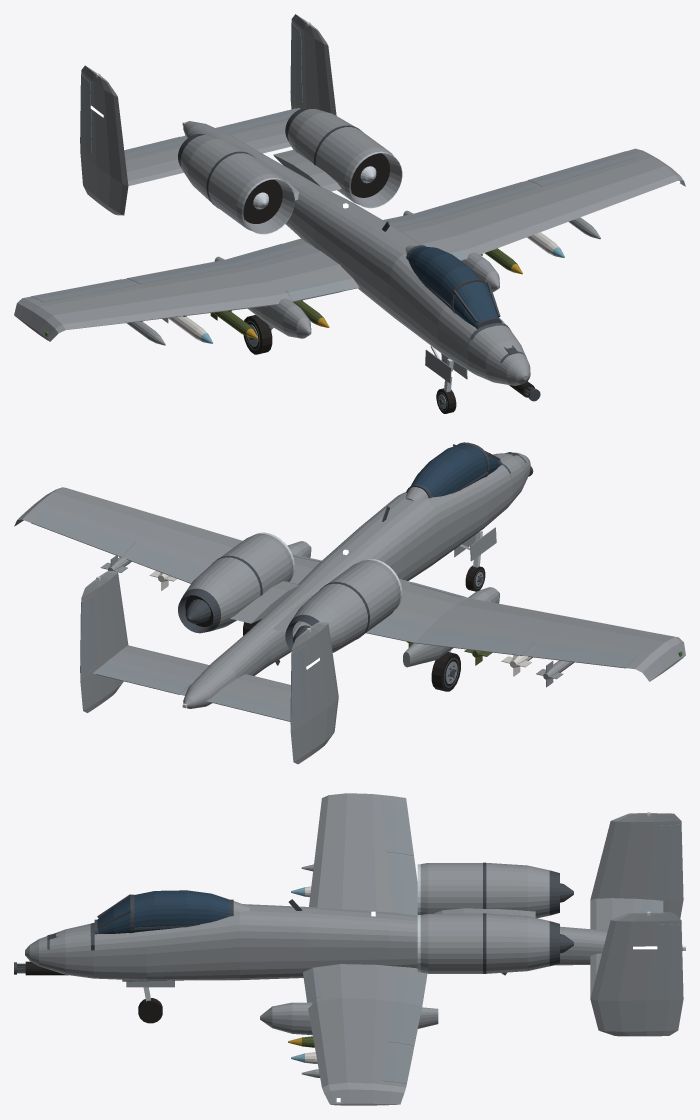
3 views of the same model, one above another, from view 1: azimuth 30°, elevation 25°; view 2: azimuth 150°, elevation 25°; view 3: azimuth 270°, elevation 25° (orthographic). The views are drawn at different scales.
Visible parts, largest first — view 1: wings, fuselage, engines, tail, cockpit, stores, gear; view 2: wings, tail, fuselage, engines, cockpit, gear, stores; view 3: wings, fuselage, tail, engines, cockpit, gear, stores.
Boxes of the visible parts, x1,y1,x2,y2 form: wings: [14, 148, 685, 341]; fuselage: [182, 121, 540, 401]; engines: [178, 107, 402, 234]; tail: [80, 14, 336, 215]; cockpit: [405, 245, 525, 362]; stores: [126, 217, 600, 345]; gear: [243, 315, 467, 413]; wings: [14, 487, 685, 681]; tail: [80, 570, 338, 764]; fuselage: [182, 452, 533, 708]; engines: [178, 532, 402, 652]; cockpit: [405, 442, 526, 500]; gear: [243, 527, 496, 691]; stores: [100, 555, 574, 687]; wings: [260, 793, 438, 1105]; fuselage: [14, 899, 685, 981]; tail: [590, 812, 683, 1036]; engines: [417, 862, 573, 973]; cockpit: [47, 890, 249, 950]; gear: [126, 980, 174, 1023]; stores: [288, 864, 319, 1077].
Size of what is drawn, in the model's own units: 17.52 by 4.52 by 16.58.
